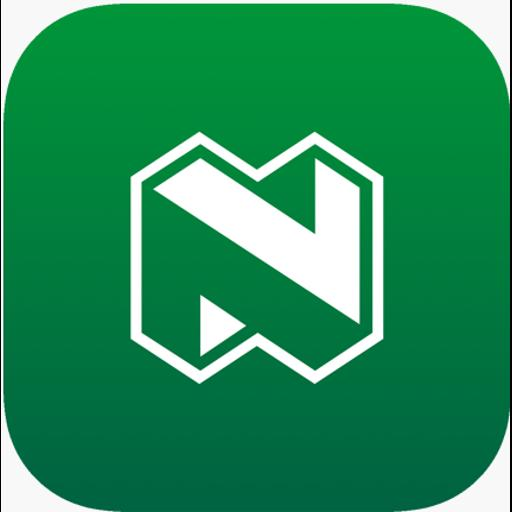NedBank Limited: (1, 0, 510, 512)
